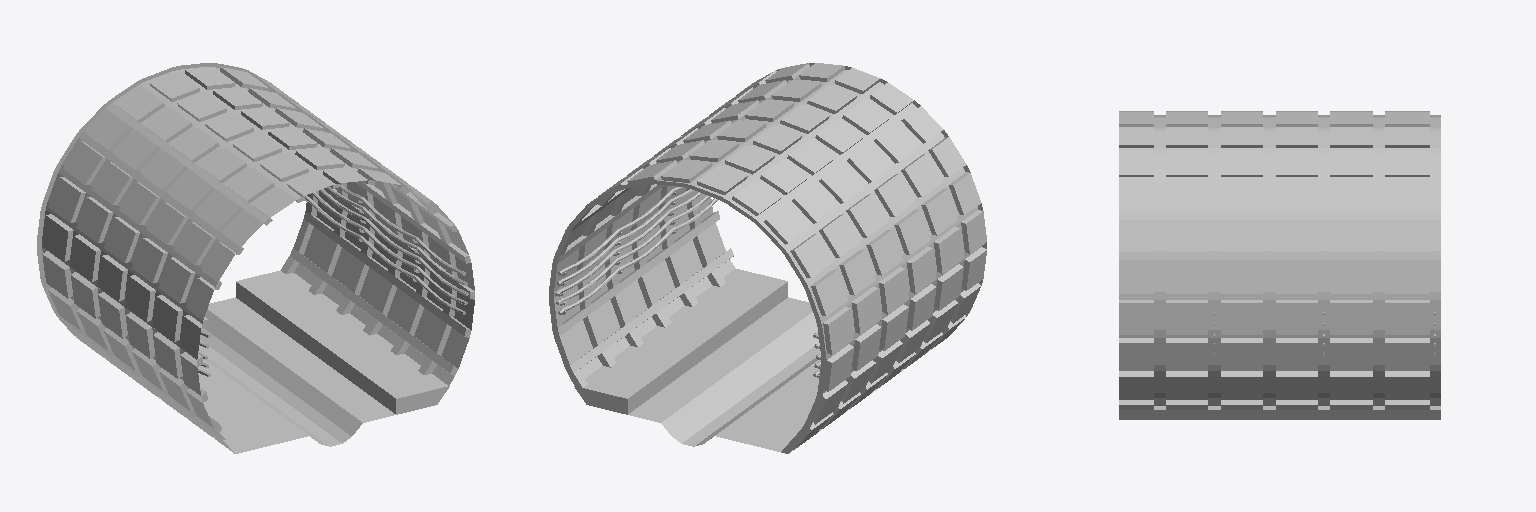
Rendered from tunnel1line.obj.
3 views of the same model, side by side, from view 1: azimuth 30°, elevation 25°; view 2: azimuth 150°, elevation 25°; view 3: azimuth 270°, elevation 25° (orthographic).
Parts seen in each view (by area): view 1: Cylinder_Cylinder.001, Cylinder.010_Cylinder.011; view 2: Cylinder_Cylinder.001, Cylinder.010_Cylinder.011; view 3: Cylinder_Cylinder.001.
Part boxes in pixels (bbox=[...]): Cylinder_Cylinder.001: bbox=[37, 63, 474, 453]; Cylinder.010_Cylinder.011: bbox=[198, 185, 468, 376]; Cylinder_Cylinder.001: bbox=[549, 63, 986, 453]; Cylinder.010_Cylinder.011: bbox=[555, 187, 820, 376]; Cylinder_Cylinder.001: bbox=[1119, 111, 1440, 419].
Size of the model in its own units: 0.8979 by 0.8063 by 0.9.